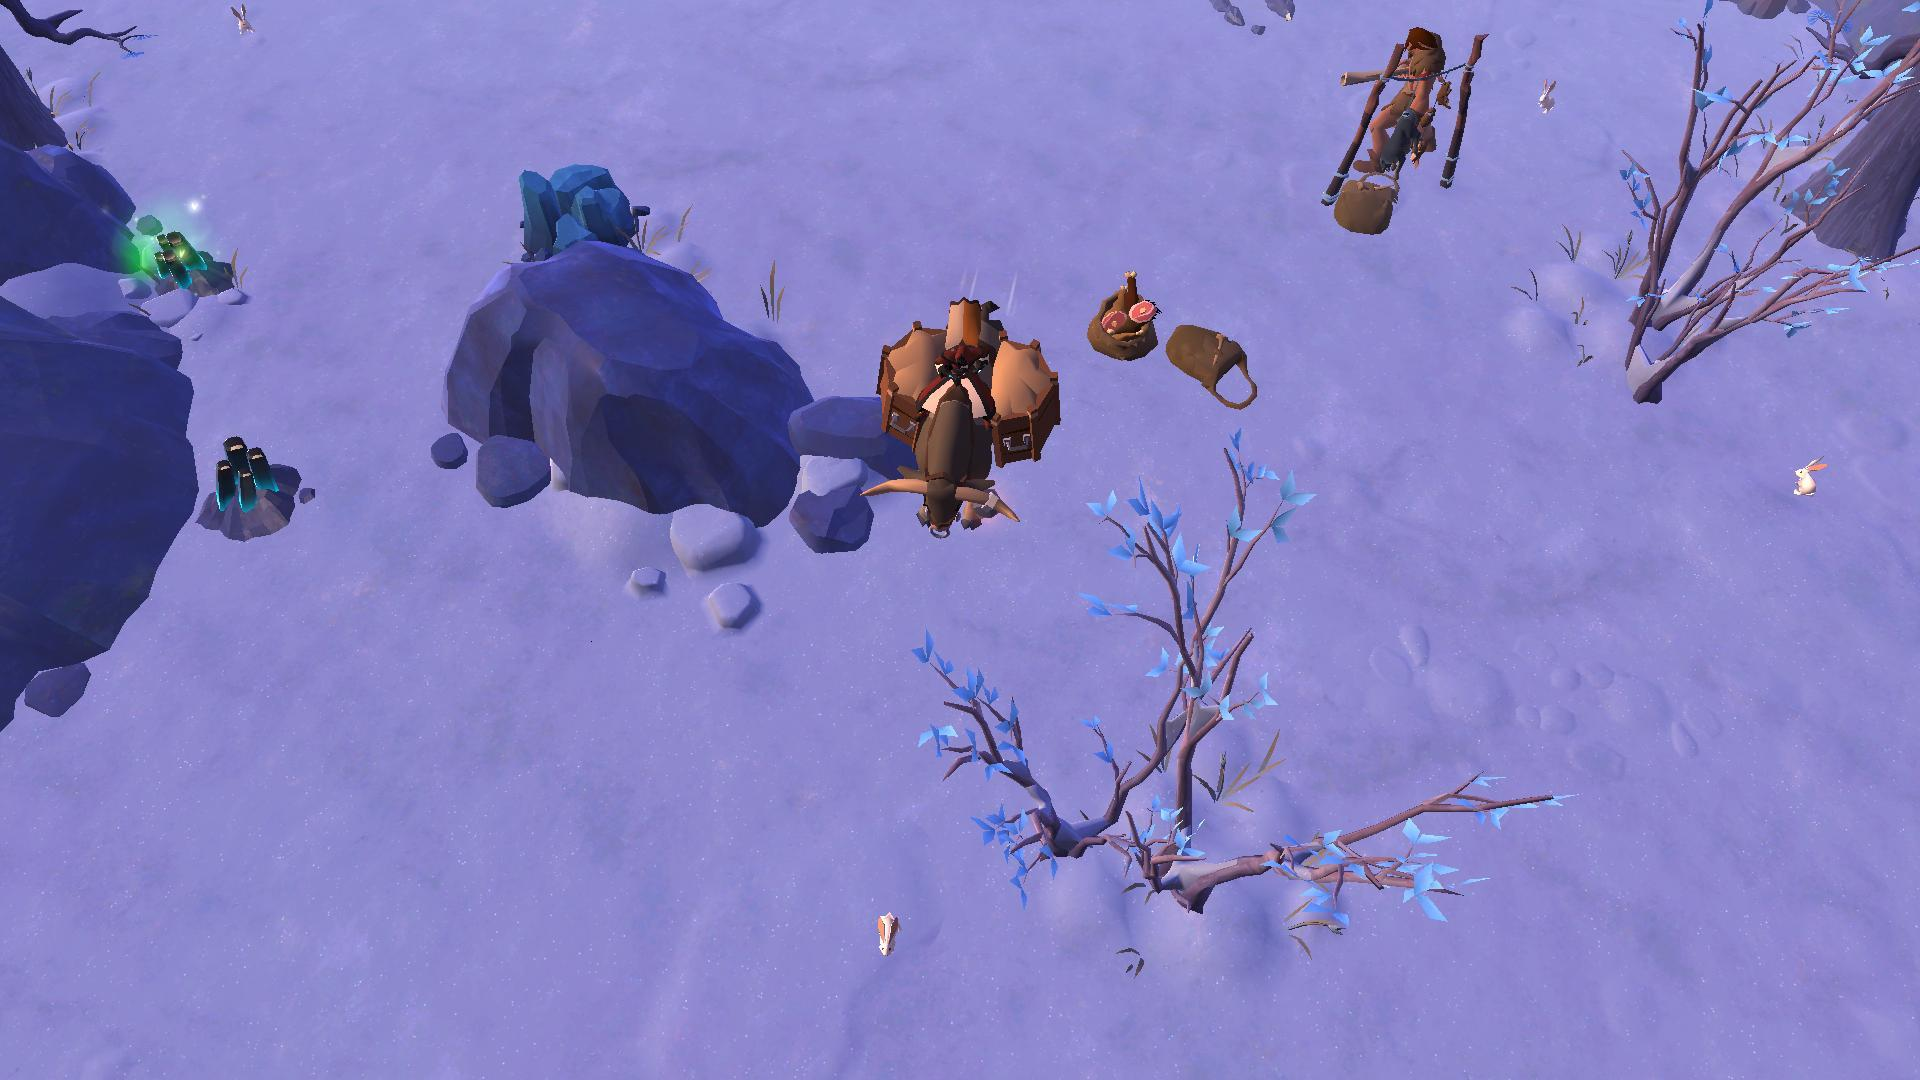enemy_factionKeeper: (1337, 18, 1455, 166)
ore_t5: (198, 431, 282, 518), (140, 223, 204, 285)
rock_t4: (513, 157, 645, 255)
